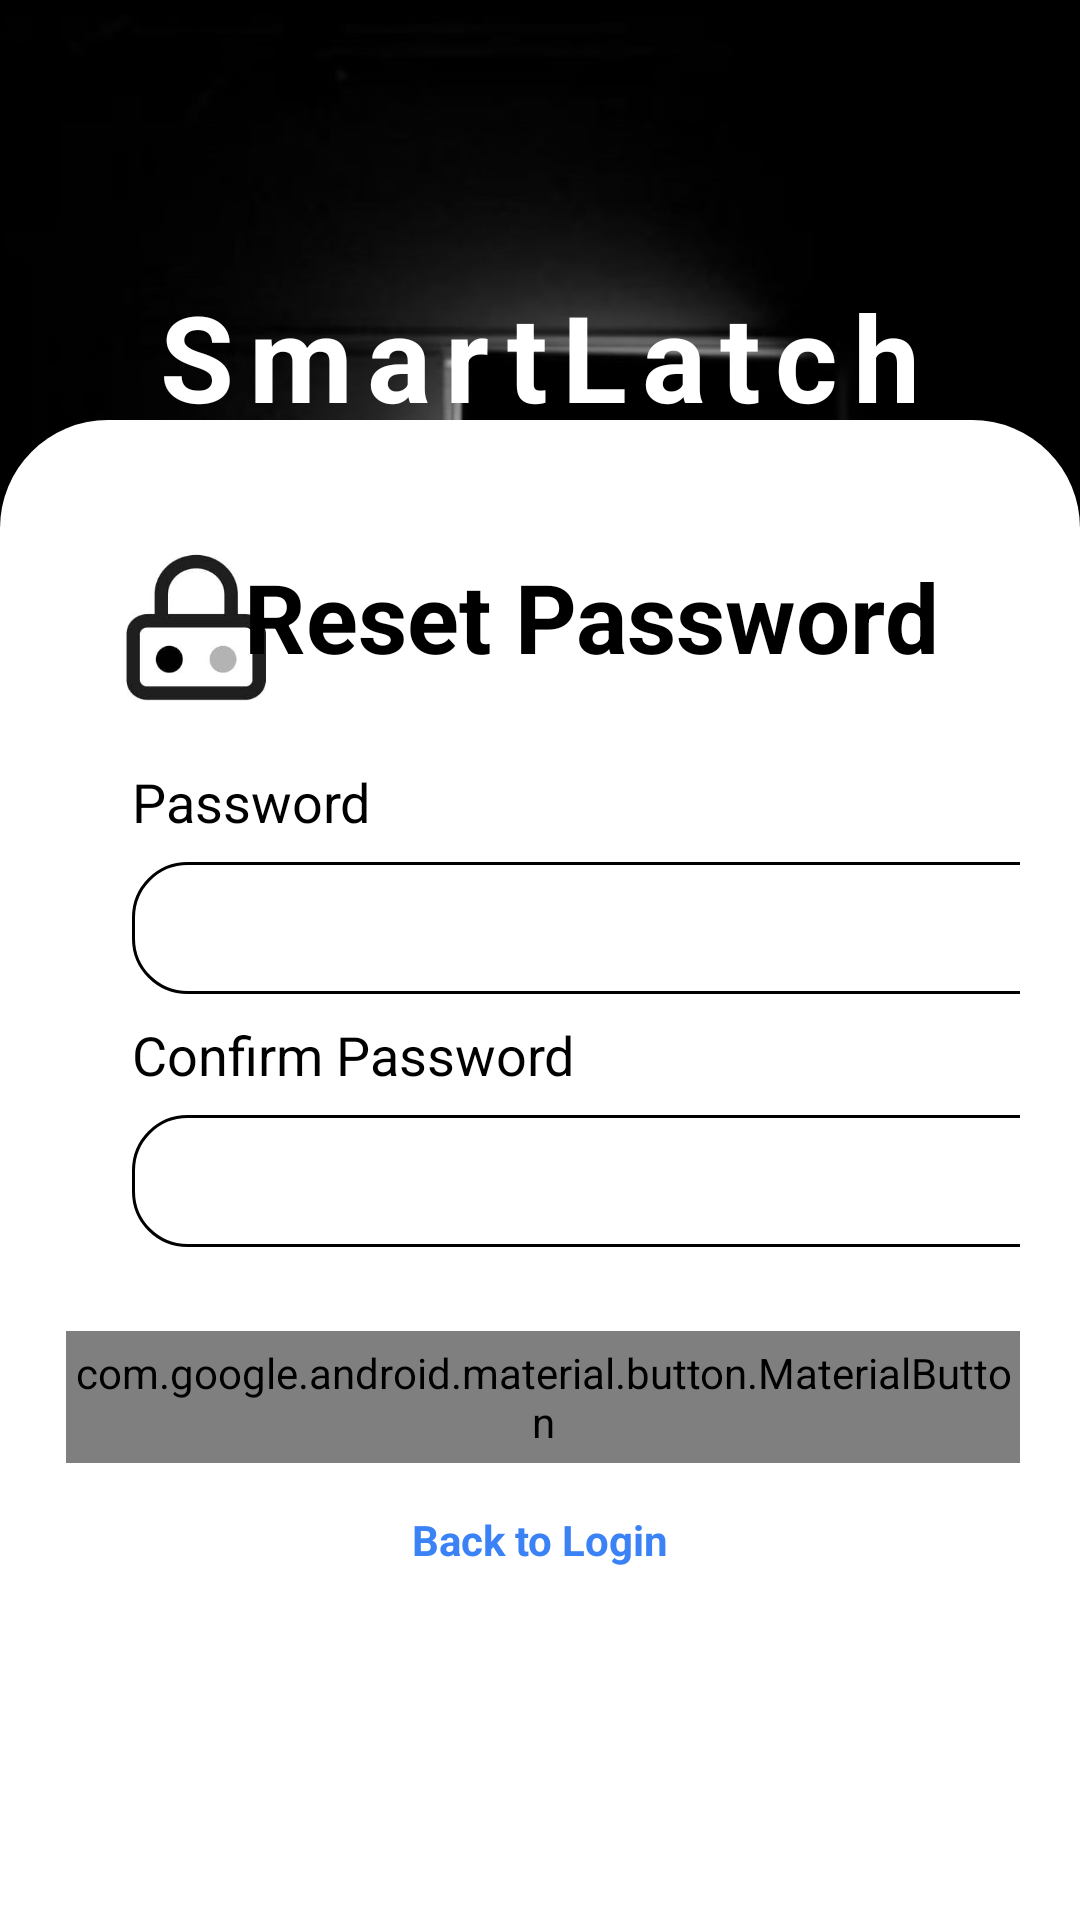

Point at icon controls on the screen. Image size 1080 × 1920, points as (x=x, y=y).
lock: (x=198, y=627)
